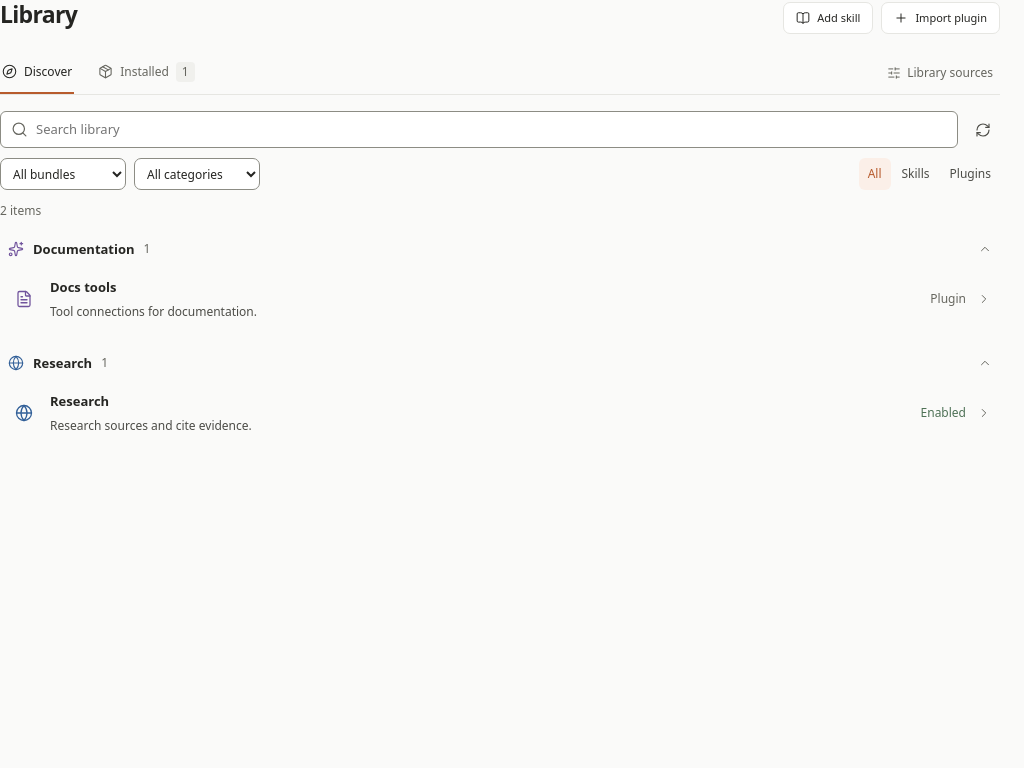
Scenario: setup library › lets enabled skills turn off without changing an explicitly disabled automatic selection
Click the button "Research" at (80, 402), box [50, 392, 109, 412]
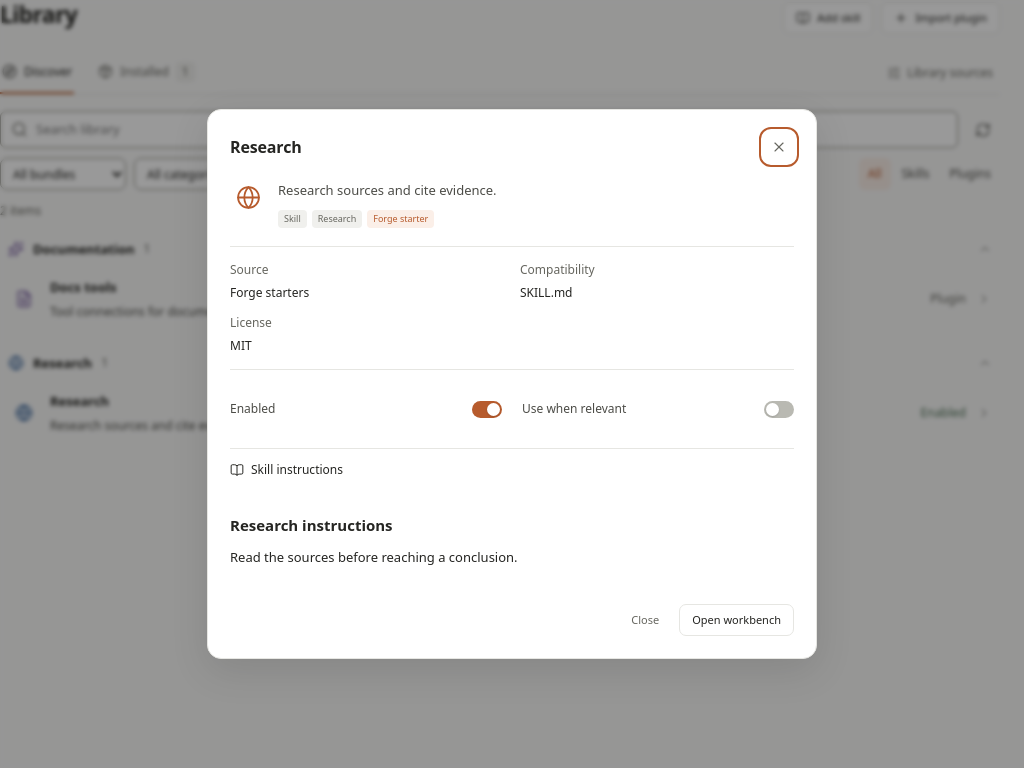
Click the switch named "Enable Research in details" at (487, 409), box [472, 401, 502, 418]
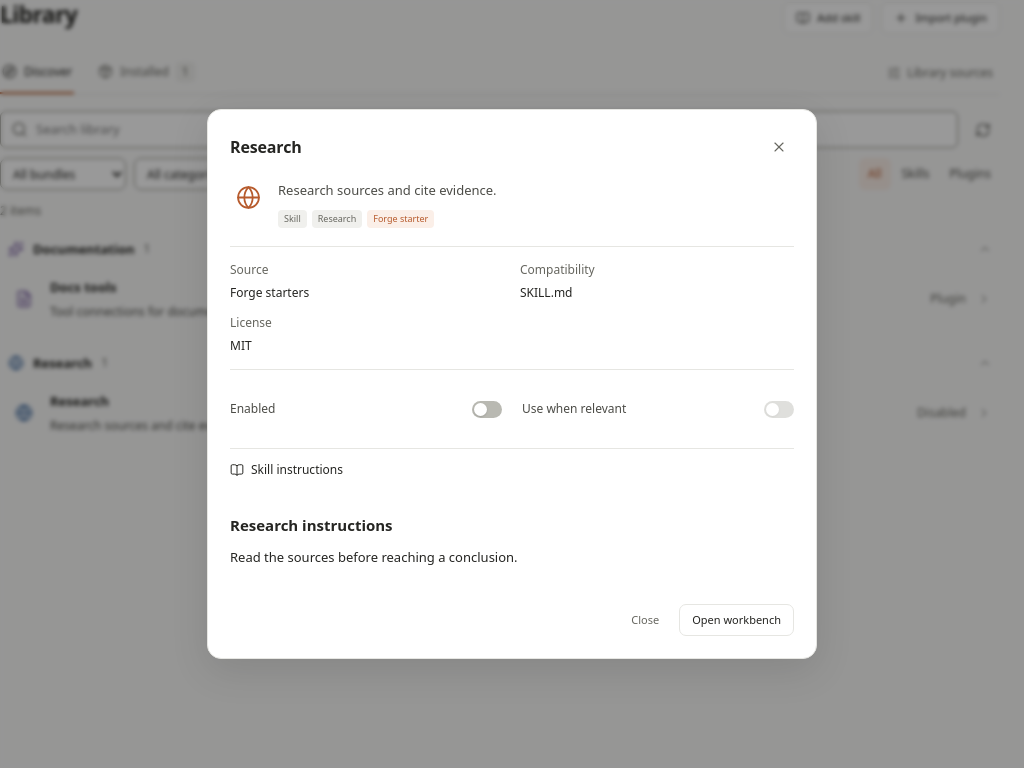
Result: the switch named "Automatically use Research in details" is disabled at [764, 401, 794, 418]
